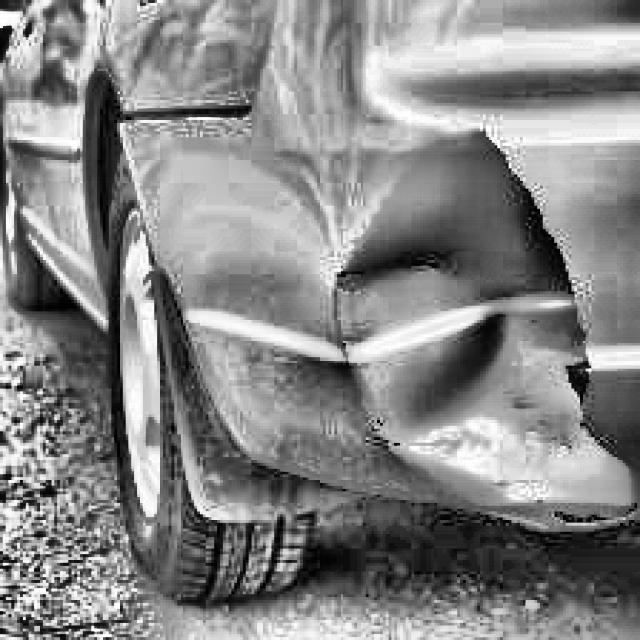bumper_dent: (338, 168, 581, 439)
